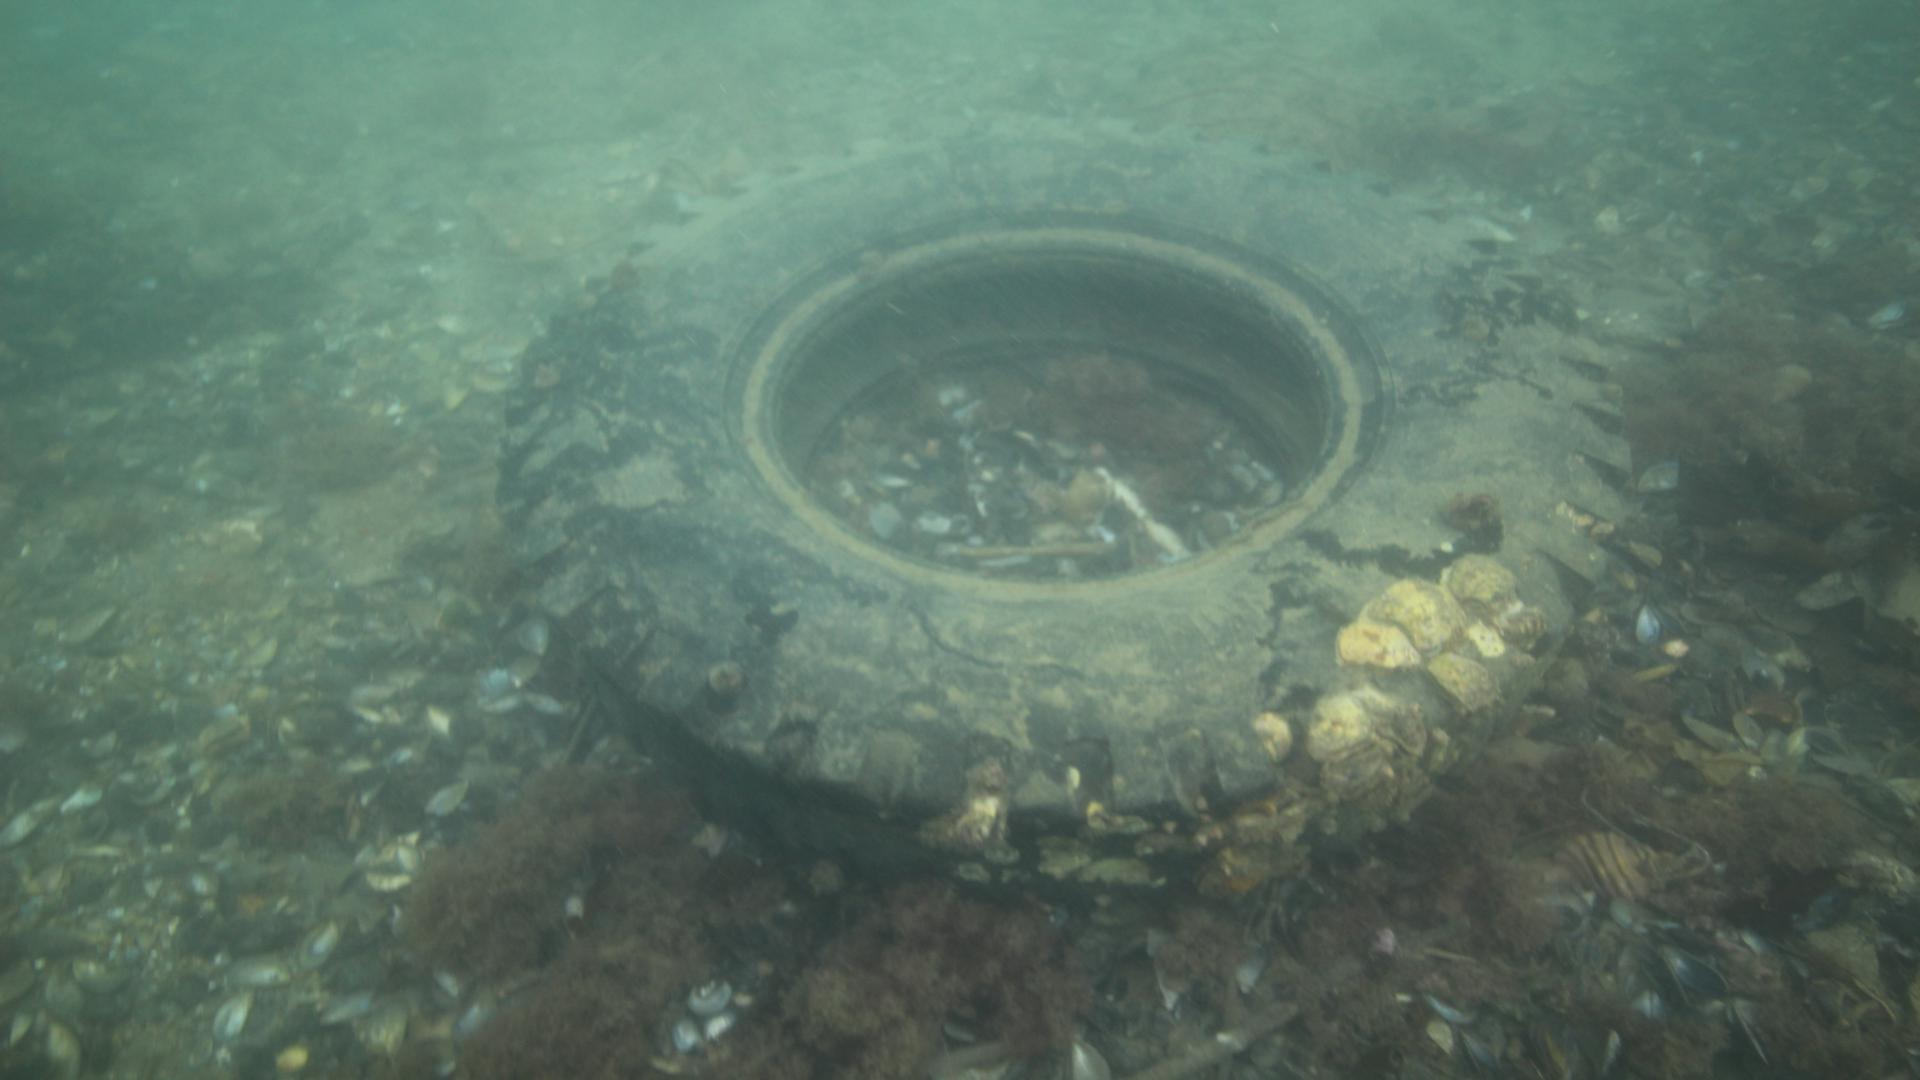tire: (492, 113, 1634, 949)
